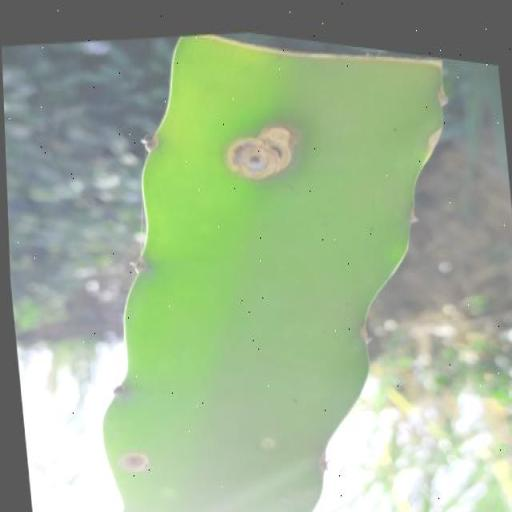stemcanker: (378, 84, 416, 126), (258, 107, 282, 126)
